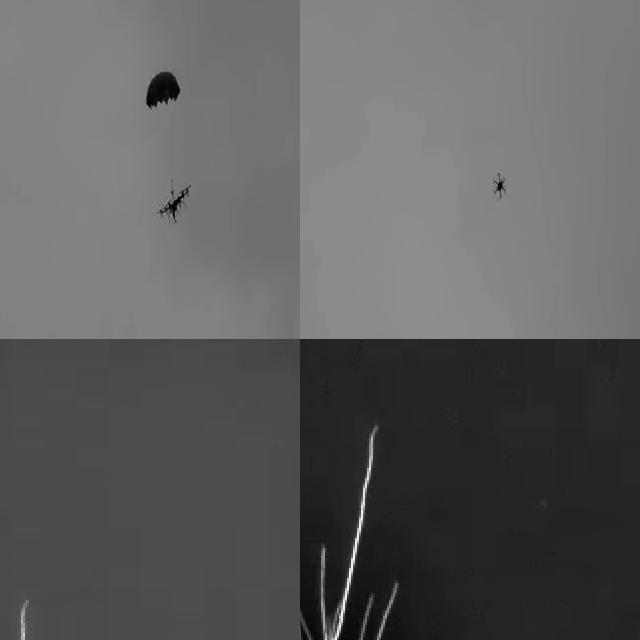0: (536, 494, 556, 520)
drone: (150, 182, 193, 225), (486, 166, 511, 201)
